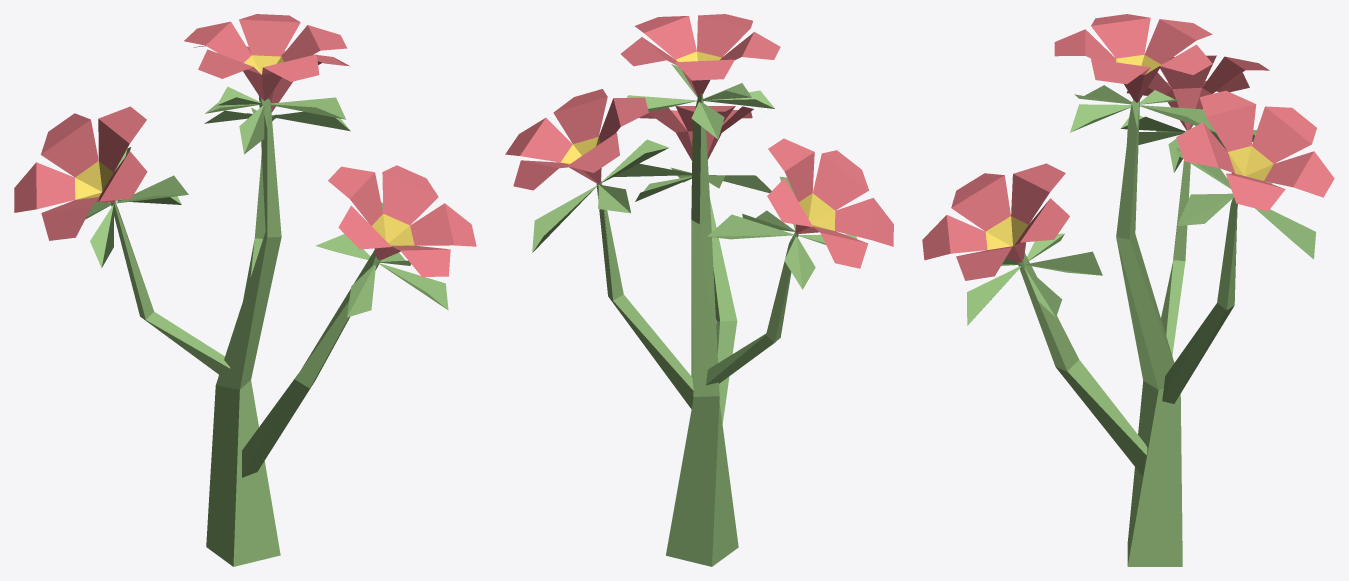
The model's file is flower-poisonous.glb.
3 views of the same model, side by side, from view 1: azimuth 30°, elevation 25°; view 2: azimuth 150°, elevation 25°; view 3: azimuth 270°, elevation 25° (orthographic). The views are drawn at different scales.
Parts seen in each view (by area): view 1: flower_poisonous; view 2: flower_poisonous; view 3: flower_poisonous.
Part boxes in pixels (x1,y1,x2,y2): flower_poisonous: (14, 14, 476, 566); flower_poisonous: (505, 14, 893, 566); flower_poisonous: (922, 14, 1334, 566).
Size of the model in its own units: 69.1 by 98.38 by 70.89.
